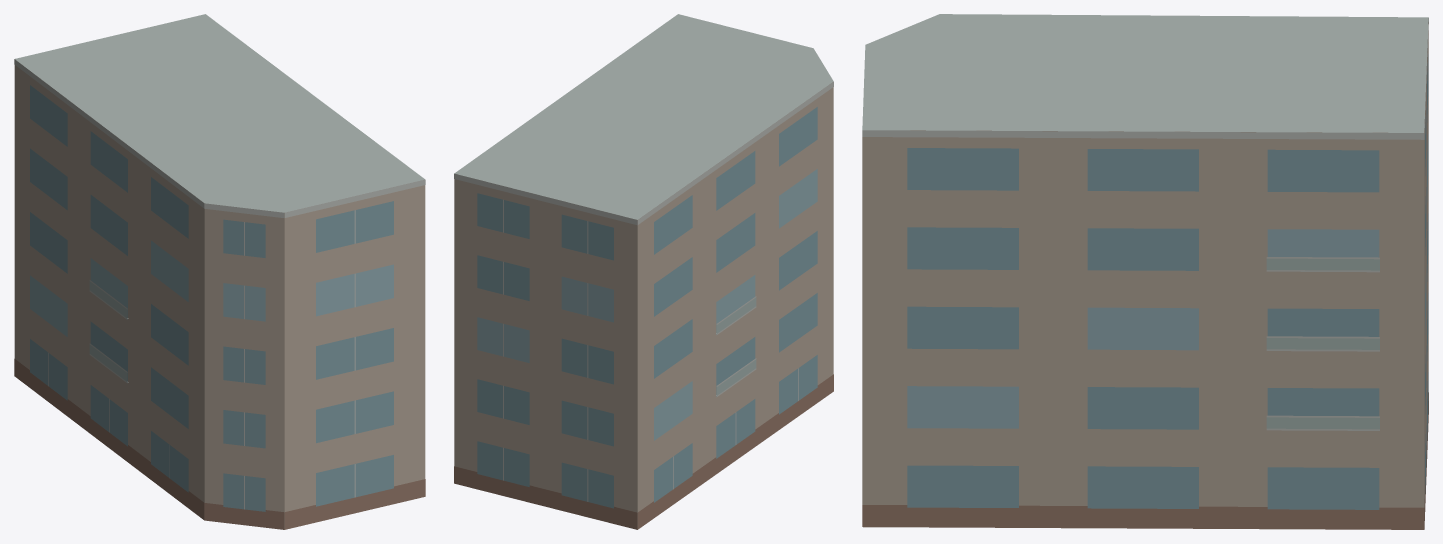
The model's file is survey-upis-32545661.glb.
3 renders of one model, left to right at view 1: azimuth 30°, elevation 25°; view 2: azimuth 150°, elevation 25°; view 3: azimuth 270°, elevation 25°, orthographic. The views are drawn at different scales.
Parts seen in each view (by area): view 1: survey-upis-32545661.tmp; view 2: survey-upis-32545661.tmp; view 3: survey-upis-32545661.tmp.
Part boxes in pixels (left/top/right/bottom): survey-upis-32545661.tmp: left=14, top=14, right=425, bottom=529; survey-upis-32545661.tmp: left=454, top=14, right=833, bottom=529; survey-upis-32545661.tmp: left=862, top=14, right=1428, bottom=529.
Bounding box in the file's own units: 9.09 × 14.1 × 18.25.
